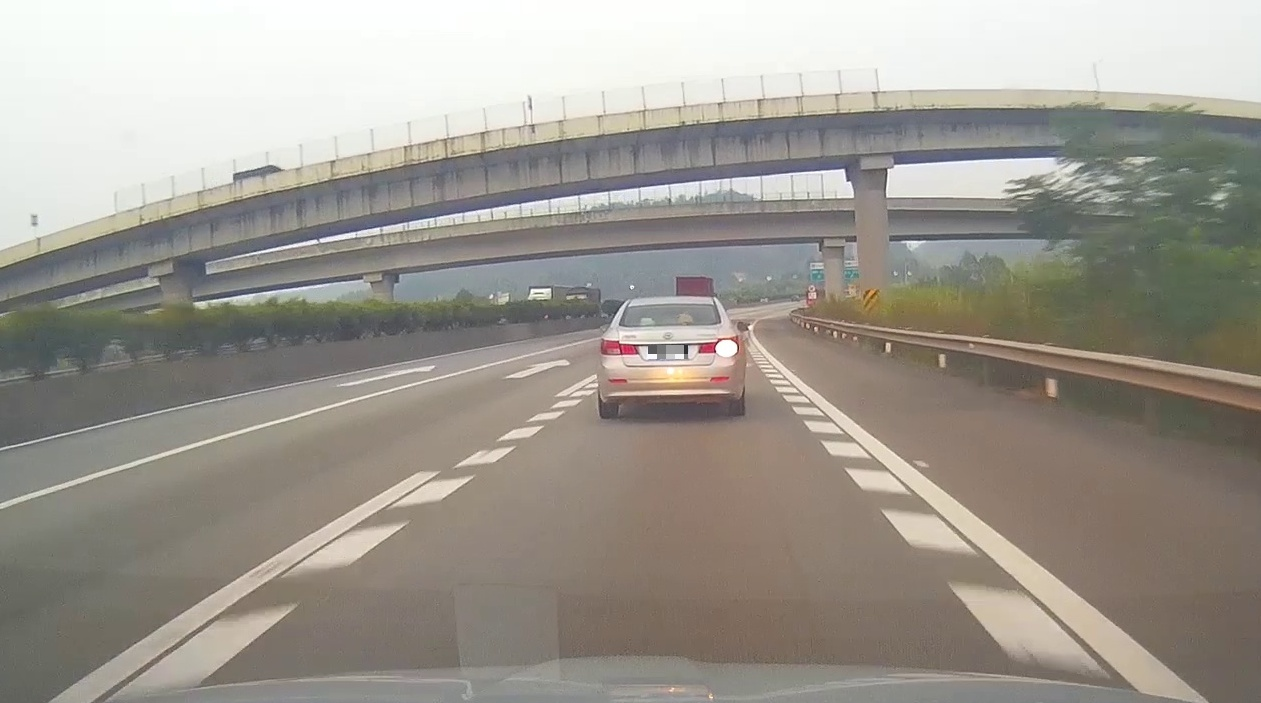L_light: (601, 339, 639, 355)
R_light: (699, 335, 739, 356)
T_light: (661, 320, 677, 326)
day-right: (597, 296, 746, 419)
plate_1: (648, 345, 688, 359)
